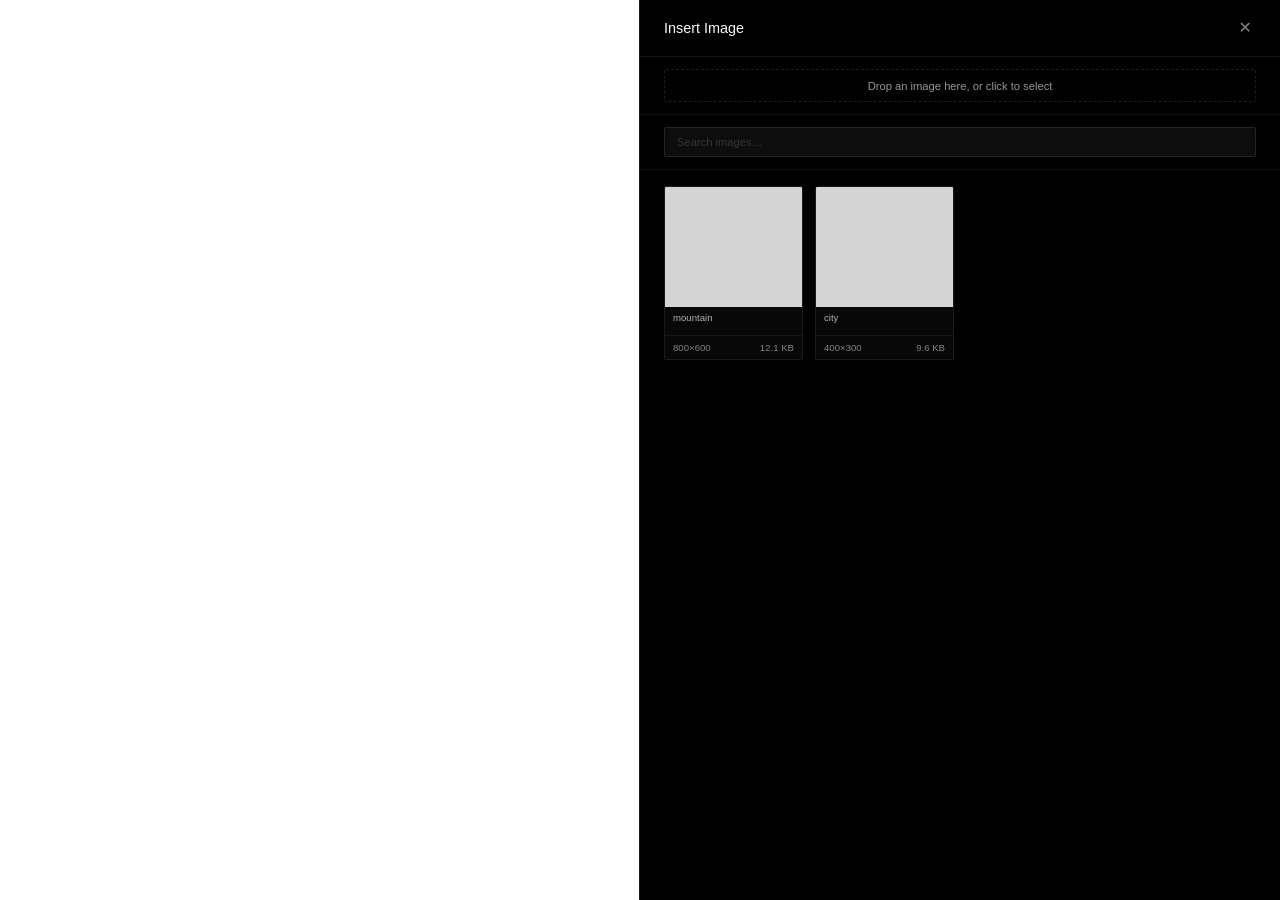
it: ImagePicker › shows empty state when API search returns no results
Type "zzznomatch" into the field with test id "image-picker-search" at [960, 142], box left=664, top=127, right=1256, bottom=157
Wait 300 ms
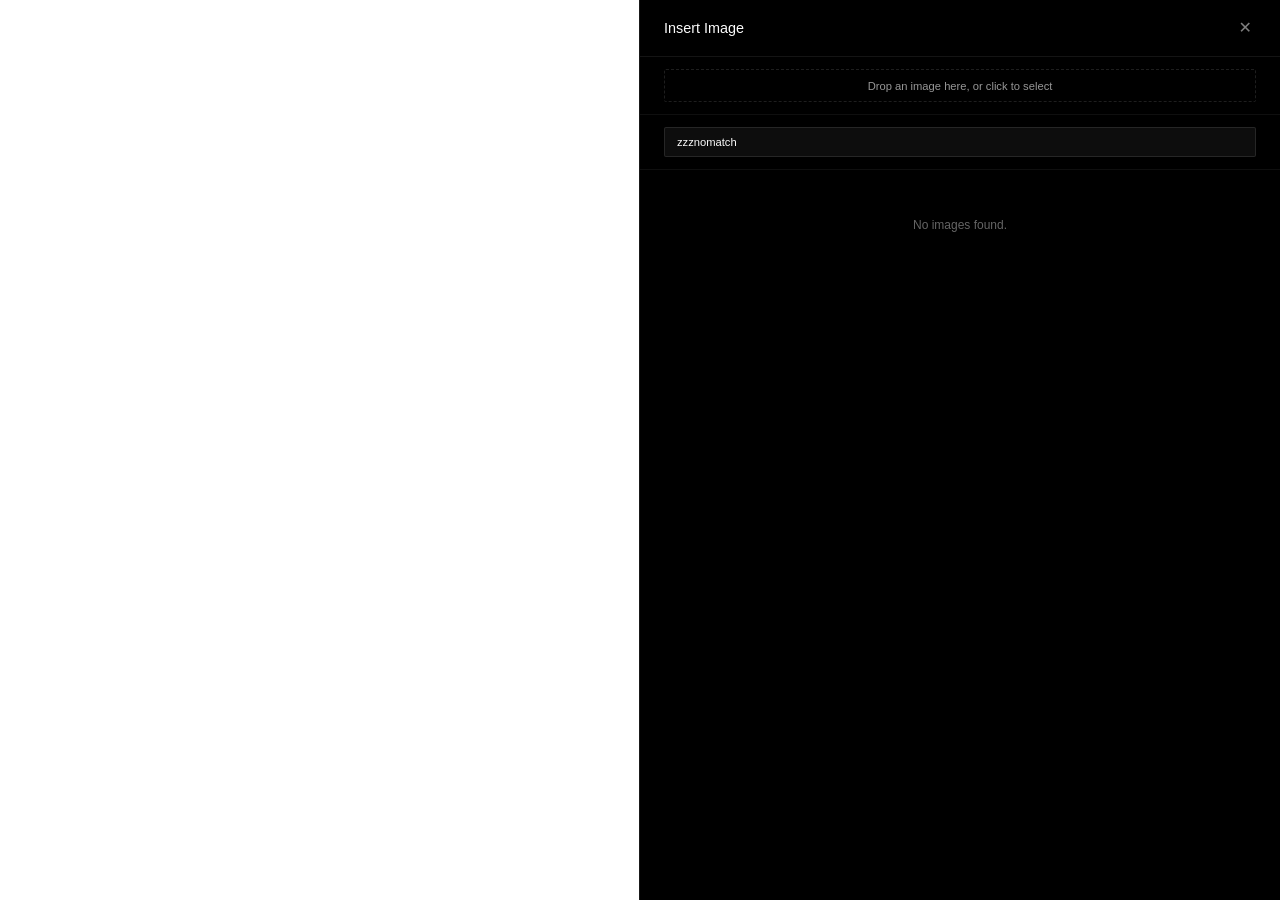
Expected: the text "No images found." is shown, left=913, top=218, right=1007, bottom=232
